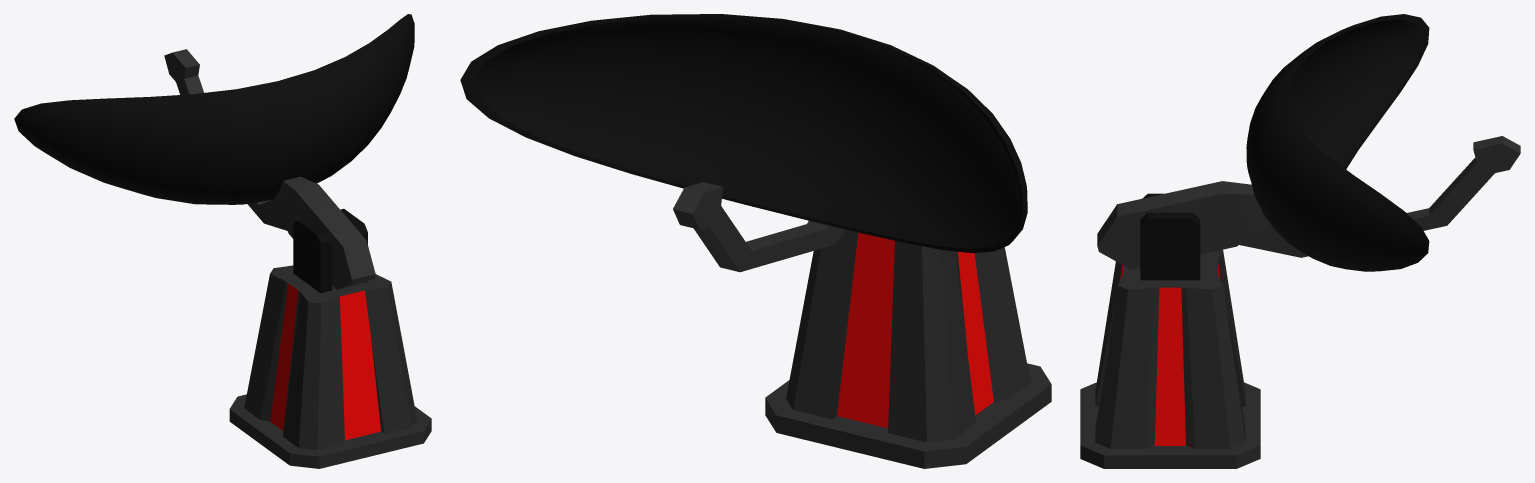
File: radio.fbx
3 views of the same model, side by side, from view 1: azimuth 30°, elevation 25°; view 2: azimuth 150°, elevation 25°; view 3: azimuth 270°, elevation 25° (orthographic). The views are drawn at different scales.
Parts seen in each view (by area): view 1: Sphere001, Box001, Box004, Box002, Line002; view 2: Sphere001, Box001, Line002; view 3: Sphere001, Box001, Box004, Line002, Box003.
Boxes of the visible parts, box(x1,y1,x2,y2) form: Sphere001: box(14, 14, 414, 204); Box001: box(229, 265, 431, 468); Box004: box(274, 176, 375, 289); Box002: box(293, 217, 332, 293); Line002: box(164, 49, 287, 230); Sphere001: box(460, 14, 1027, 252); Box001: box(765, 230, 1051, 468); Line002: box(673, 182, 846, 272); Sphere001: box(1246, 14, 1429, 271); Box001: box(1080, 249, 1260, 468); Box004: box(1097, 181, 1270, 269); Line002: box(1240, 136, 1520, 257); Box003: box(1140, 212, 1200, 280).
Bounding box in the file's own units: 336 × 247 × 293.
